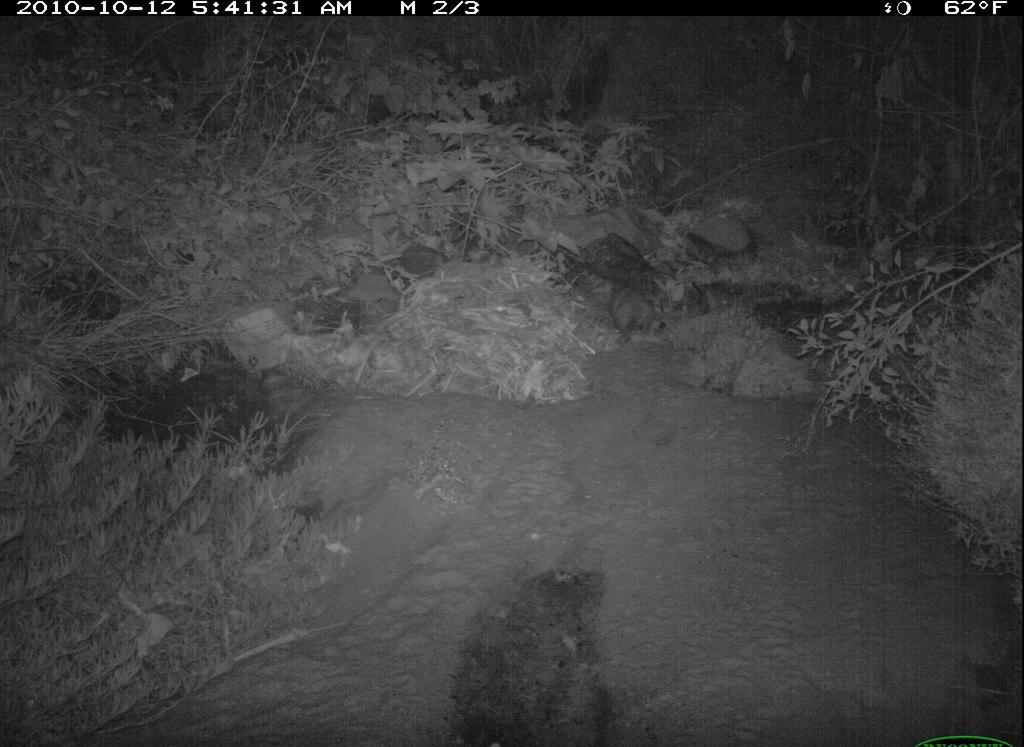opossum: (600, 269, 661, 369)
